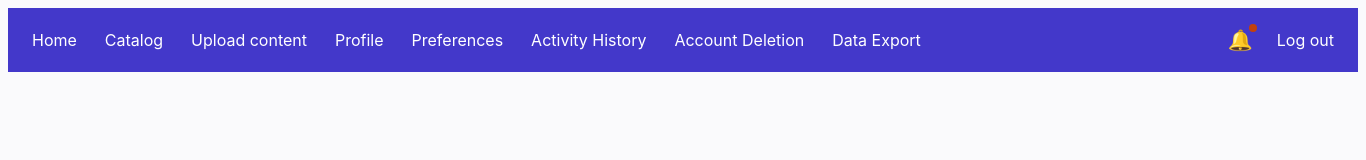
Test case: AppHeader › clear is disabled with a 'still in progress' tooltip for an in-progress notification
The image size is (1366, 160).
Click the button named "notifications".
click(1240, 40)  # box top-left (1220, 20), bottom-right (1261, 60)
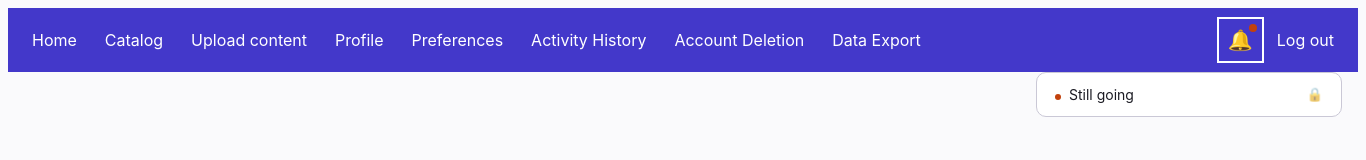
Check: the button named "clear still going (still in progress)" is disabled, box top-left (1300, 86), bottom-right (1329, 103)
